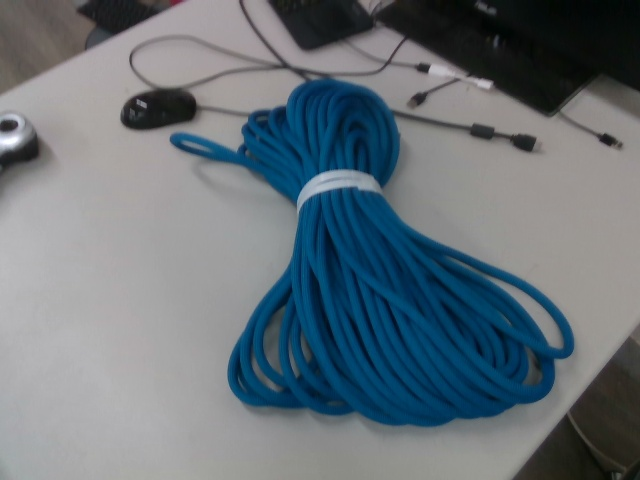rope: (164, 77, 584, 430)
